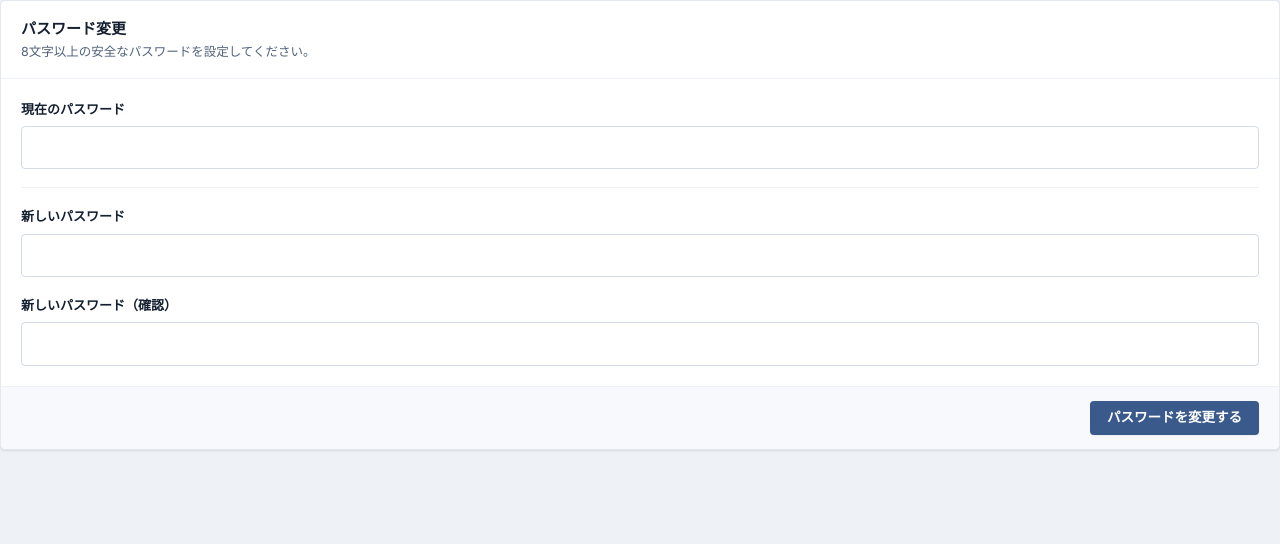
Test case: ChangePasswordForm › shows field errors without submitting when form is empty
Step 1. Click the button with test id "change-password-submit" → (1174, 418), box [1090,401,1259,435]
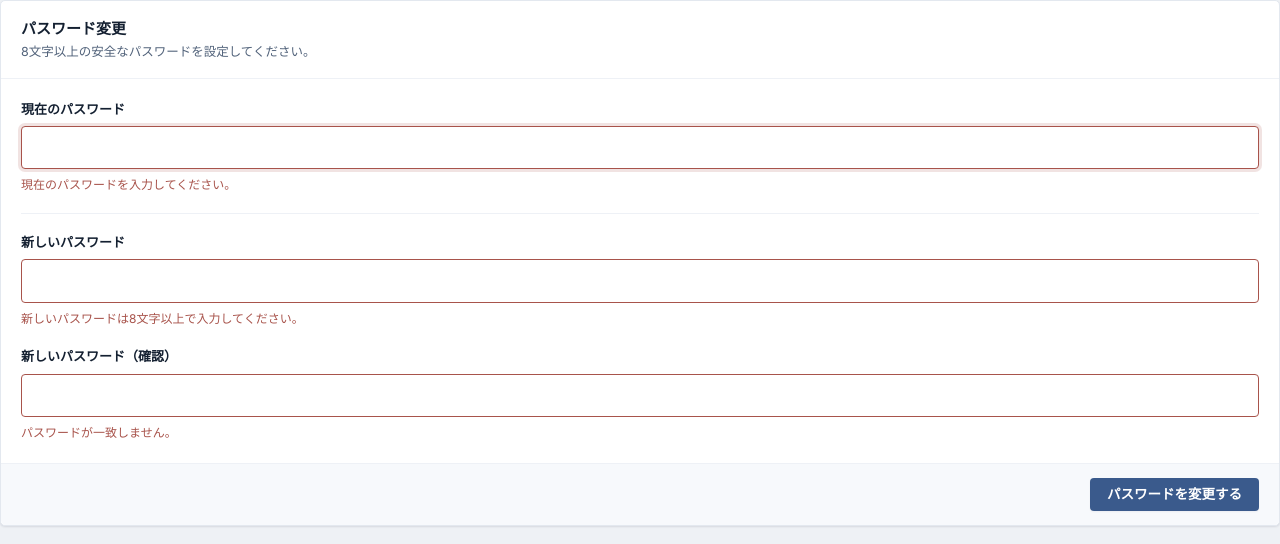
Expected: the text "現在のパスワードを入力してください。" is shown, [21,178,236,192]
Expected: the text "新しいパスワードは8文字以上で入力してください。" is shown, [21,311,304,326]
